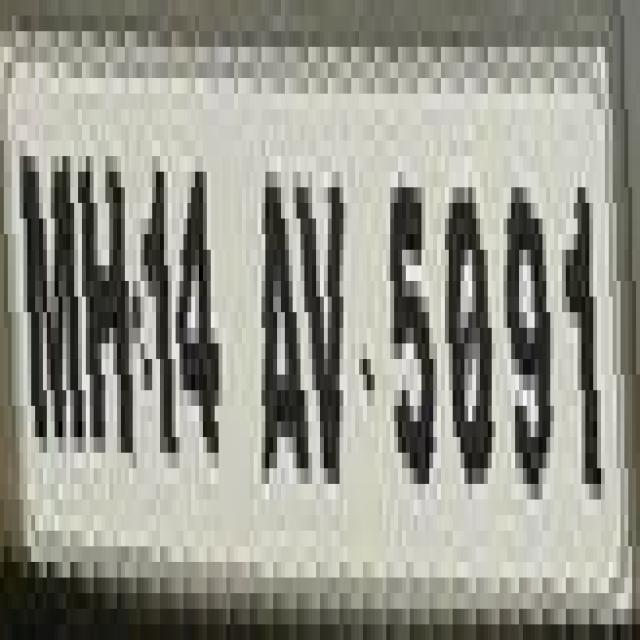plate: (0, 15, 620, 640)
